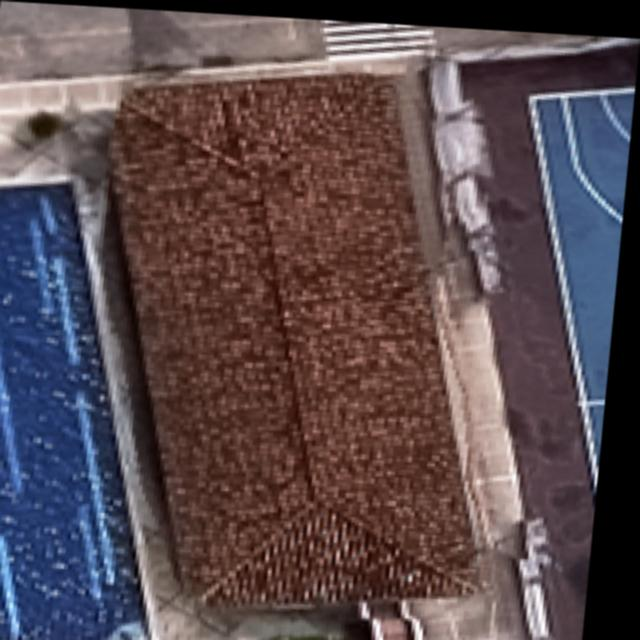Batiment: (116, 70, 482, 603), (0, 182, 156, 640)
